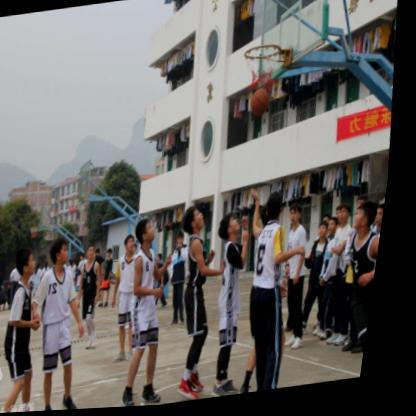basketball: (251, 90, 276, 120)
rim: (241, 45, 286, 95)
